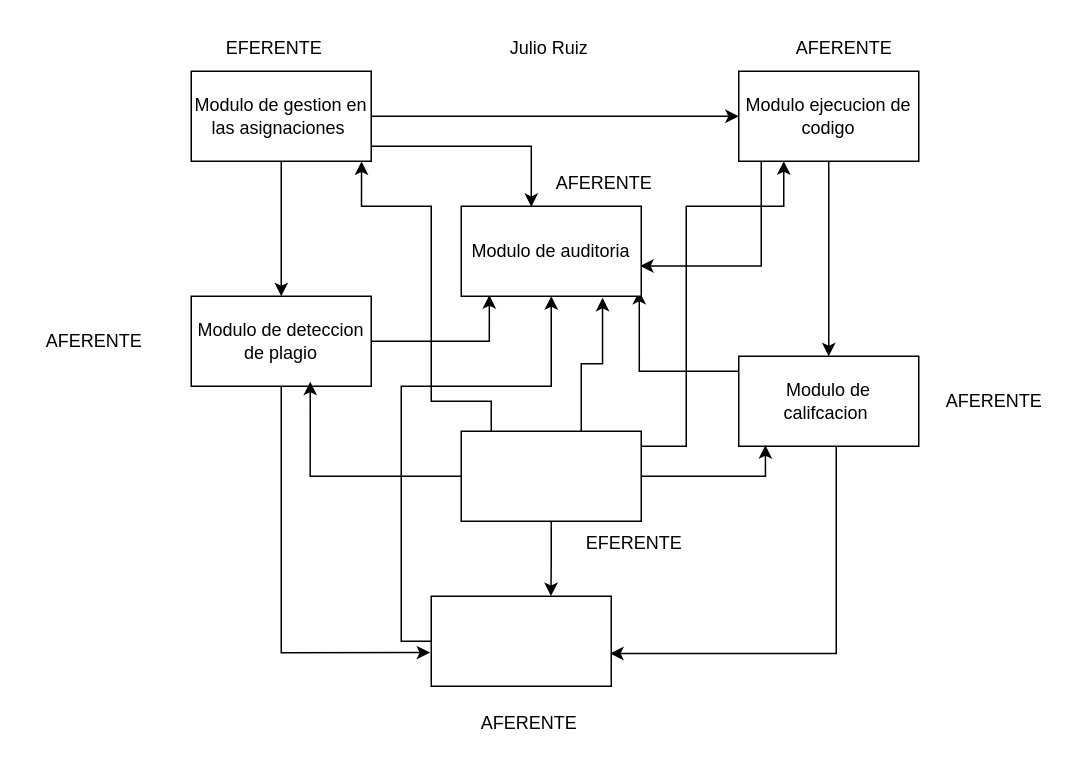
Image size: 1086x771. Some labels were removed from this diagram. The centre of each missing label's shape, as x and y in pixels:
"Modulo de interfaz del usuario" belongs at point 550,475.
"Modulo LMS" belongs at point 520,640.
